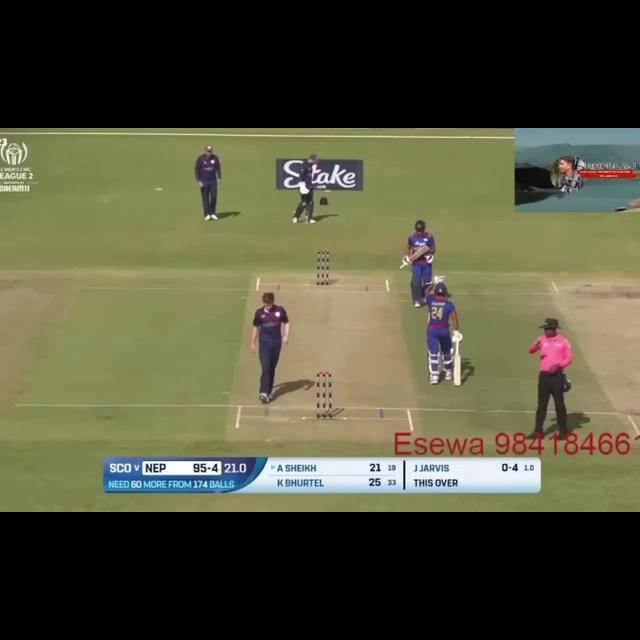umpire: (517, 317, 578, 442)
